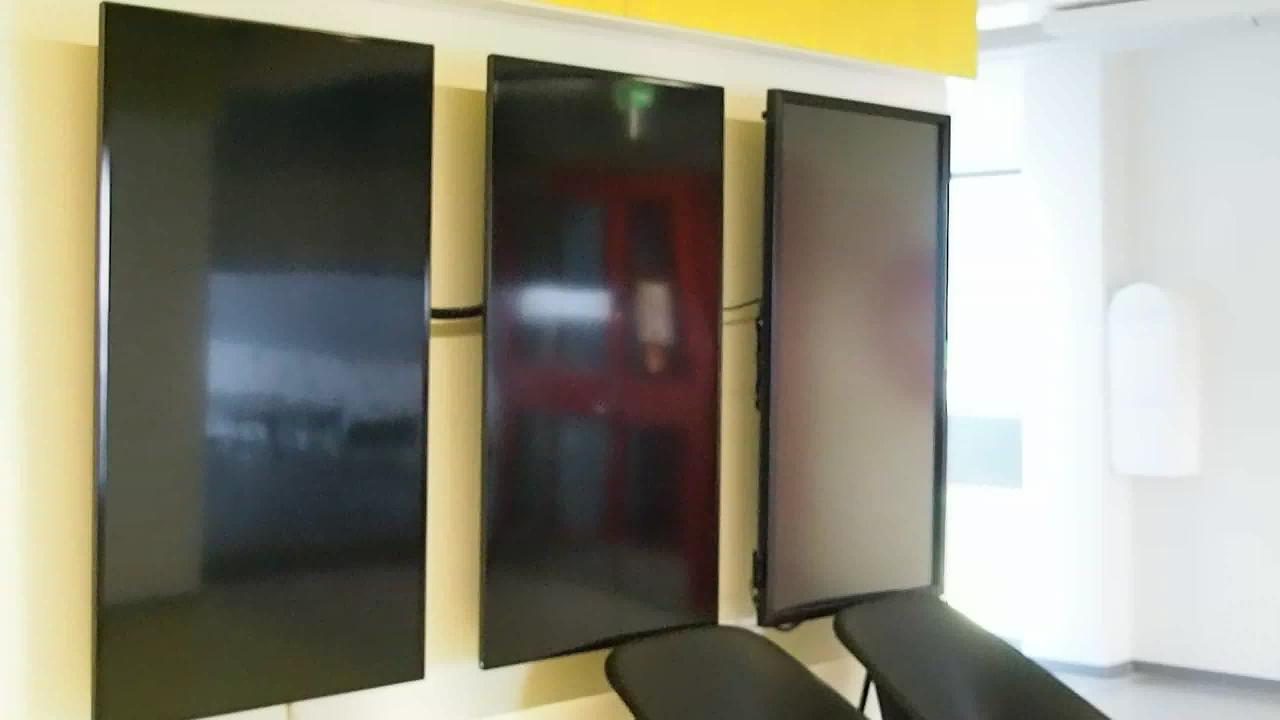screen: (87, 8, 439, 712), (475, 54, 734, 669), (760, 81, 965, 620)
